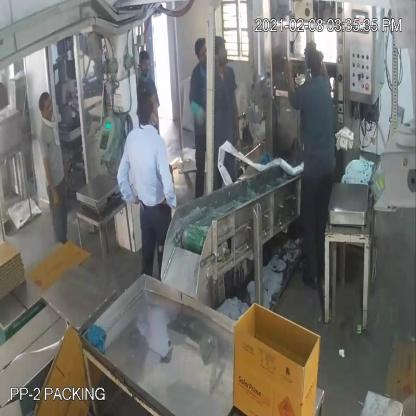glove: (189, 96, 206, 129)
no_glove: (35, 142, 63, 209), (158, 153, 182, 223), (282, 53, 304, 119), (118, 152, 140, 209), (230, 89, 246, 154)
